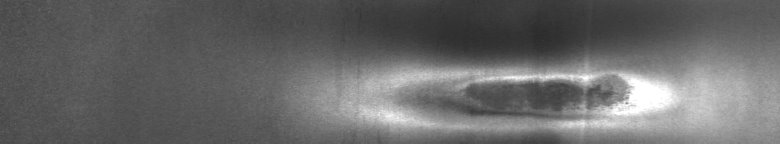ke: (377, 60, 638, 136)
